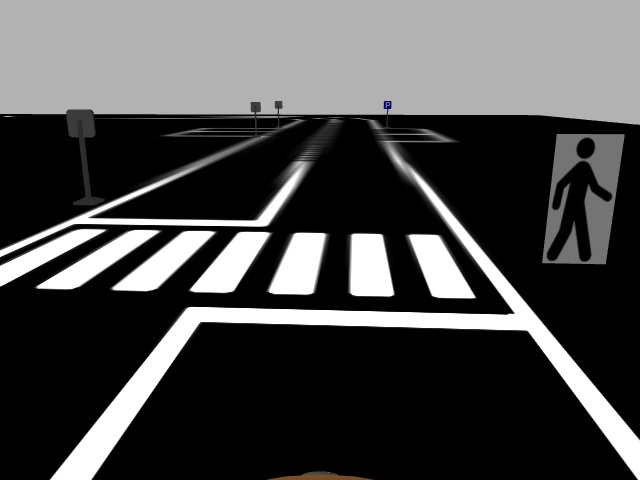parking: (382, 99, 393, 110)
pedestrian: (540, 131, 625, 266)
